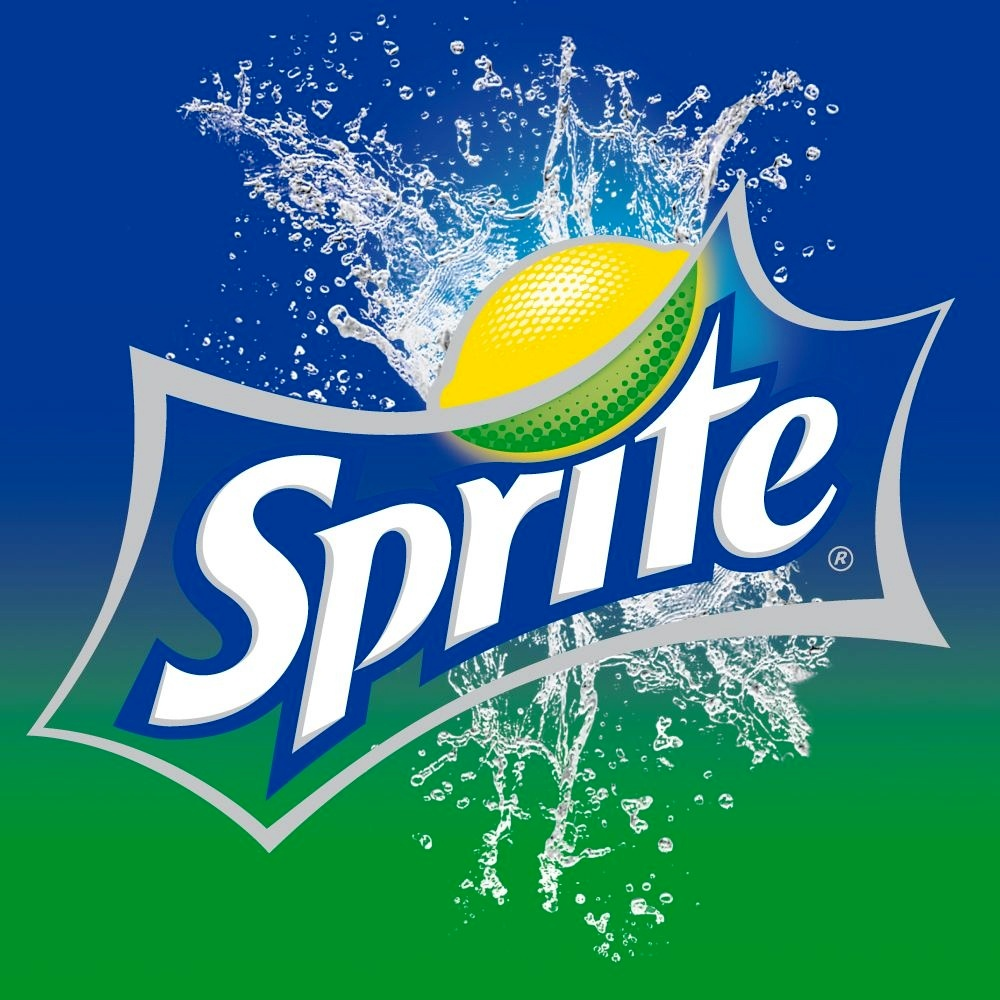sprite: (146, 308, 836, 751)
